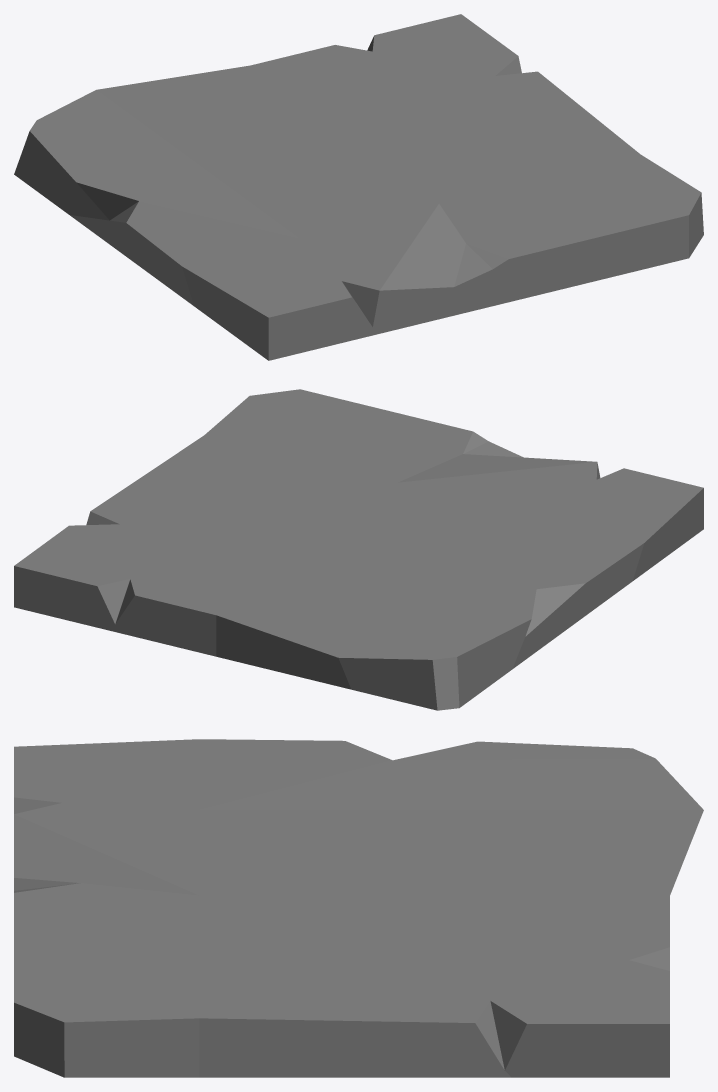
The model's file is stone_5.fbx.
3 views of the same model, one above another, from view 1: azimuth 30°, elevation 25°; view 2: azimuth 150°, elevation 25°; view 3: azimuth 270°, elevation 25° (orthographic). The views are drawn at different scales.
Parts seen in each view (by area): view 1: stone_5; view 2: stone_5; view 3: stone_5.
Part boxes in pixels (box(x1,y1,x2,y2)): stone_5: box(14, 14, 703, 360); stone_5: box(14, 389, 703, 710); stone_5: box(14, 739, 703, 1077).
Size of the model in its own units: 176 by 16.66 by 180.
